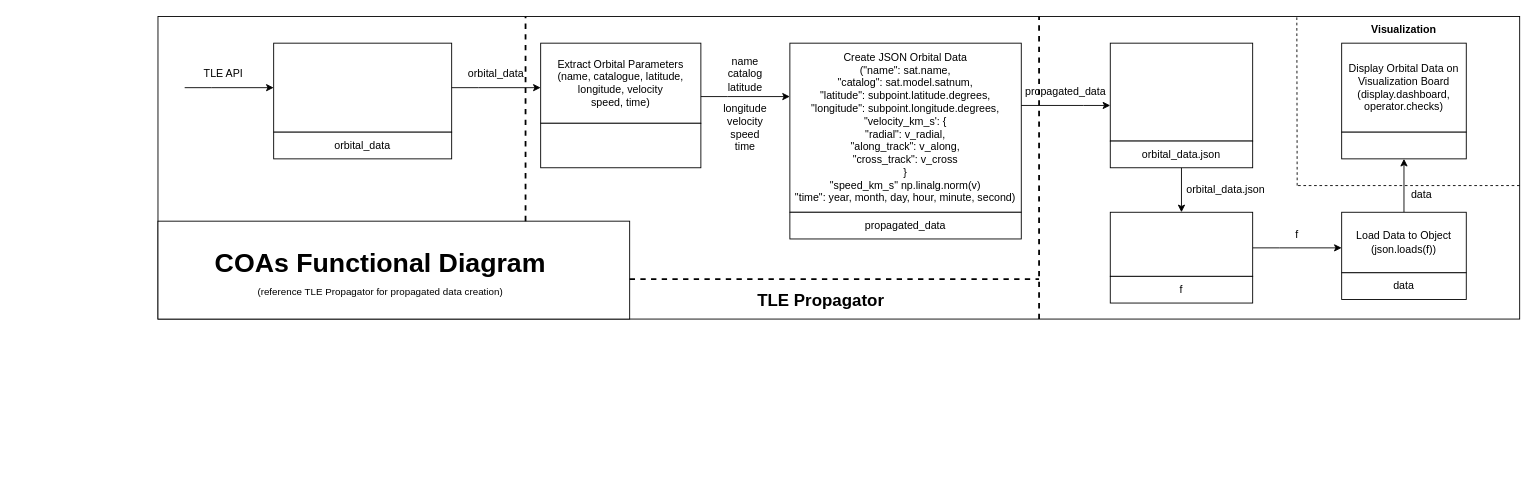
Image size: 1536x486. Some labels were removed from this diagram. The box of each missing label's shape, as (x1, y1, x2, y2) in pixels:
name catalog latitude longitude velocity speed time: (540, 122, 701, 168)
Open JSON (with open('(JSON)','r') as f:): (1109, 211, 1253, 276)
Orbital Data Display: (1341, 131, 1466, 159)
Request Orbital Data (import.requests { response = requests.get(API_URL) }: (273, 42, 452, 132)
Save to Data Repository (json.dump(propagted_data, orbita_data.json)): (1109, 42, 1253, 141)
